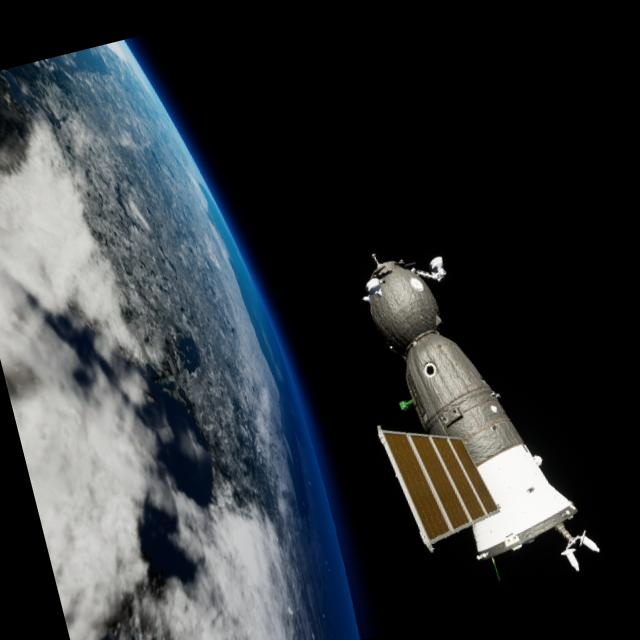Satellites revolving around earth: (0, 18, 364, 640), (332, 214, 606, 612)
